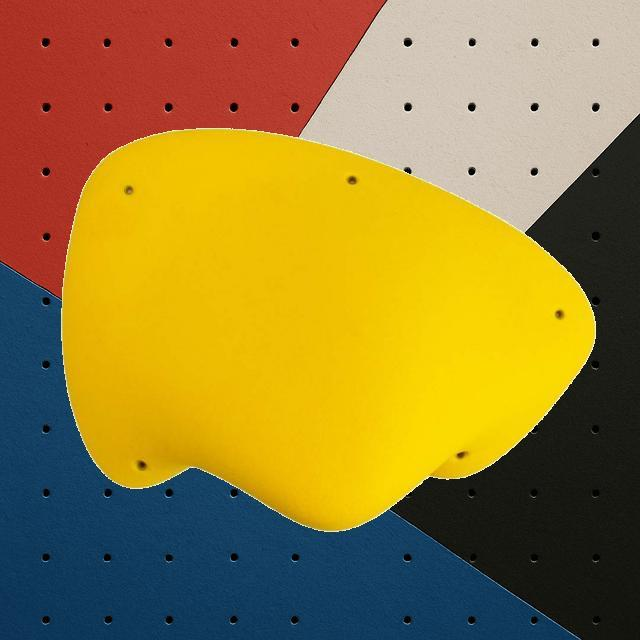Jug: (61, 127, 595, 531)
